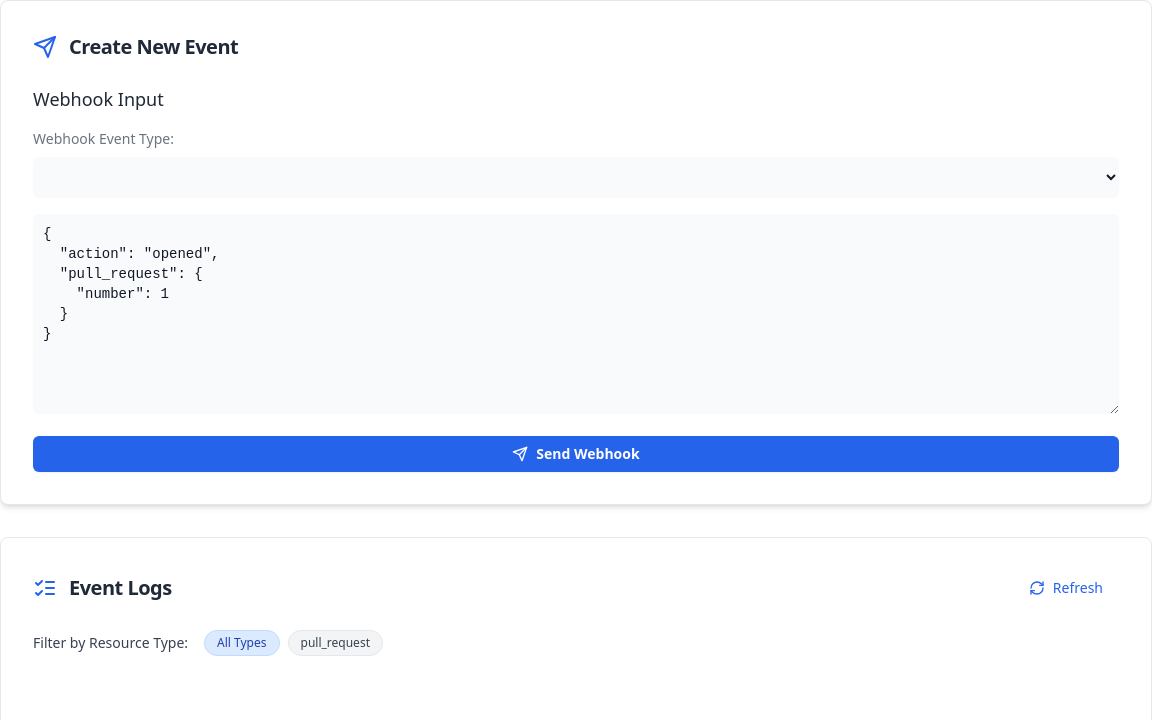
Scenario: Events Resource Type Filtering › clears filter when "All Types" is clicked
The width and height of the screenshot is (1152, 720).
Note: Click on a resource type filter first
Click the button "pull_request": [335, 643] box [288,630,383,656]
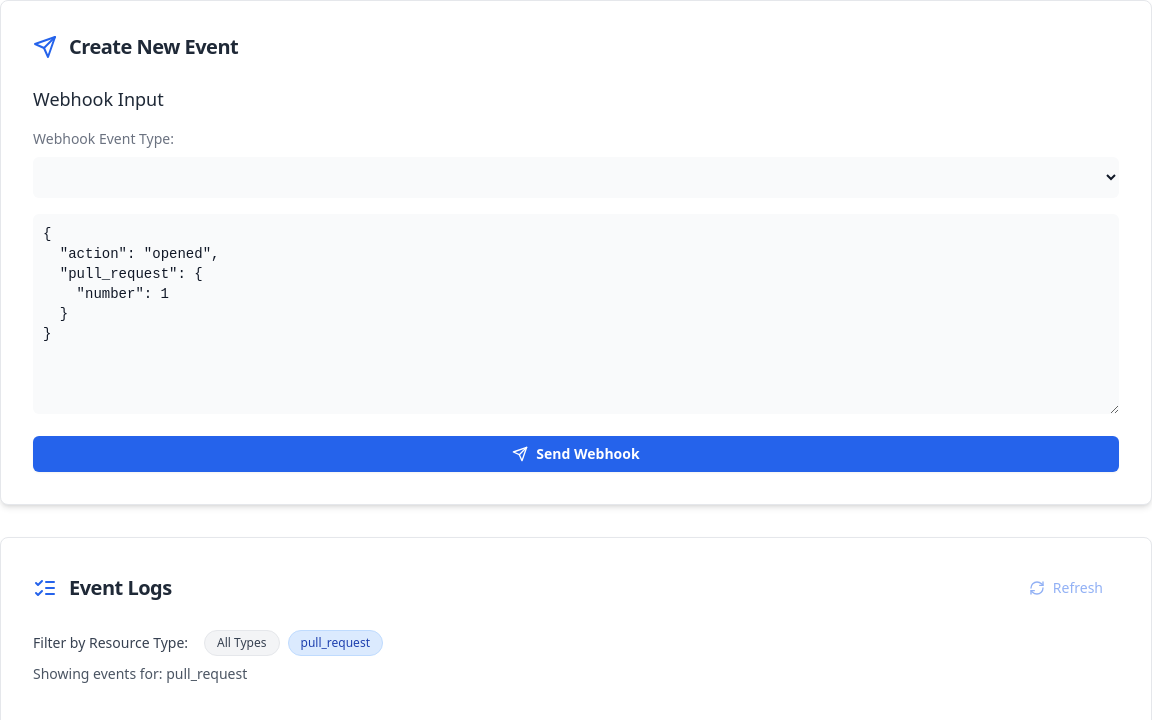
Check: the text "Showing events for: pull_request" is shown, box [33,664,247,683]
Note: Click on "All Types" to clear filter
Click the button "All Types": [242, 643] box [204,630,280,656]
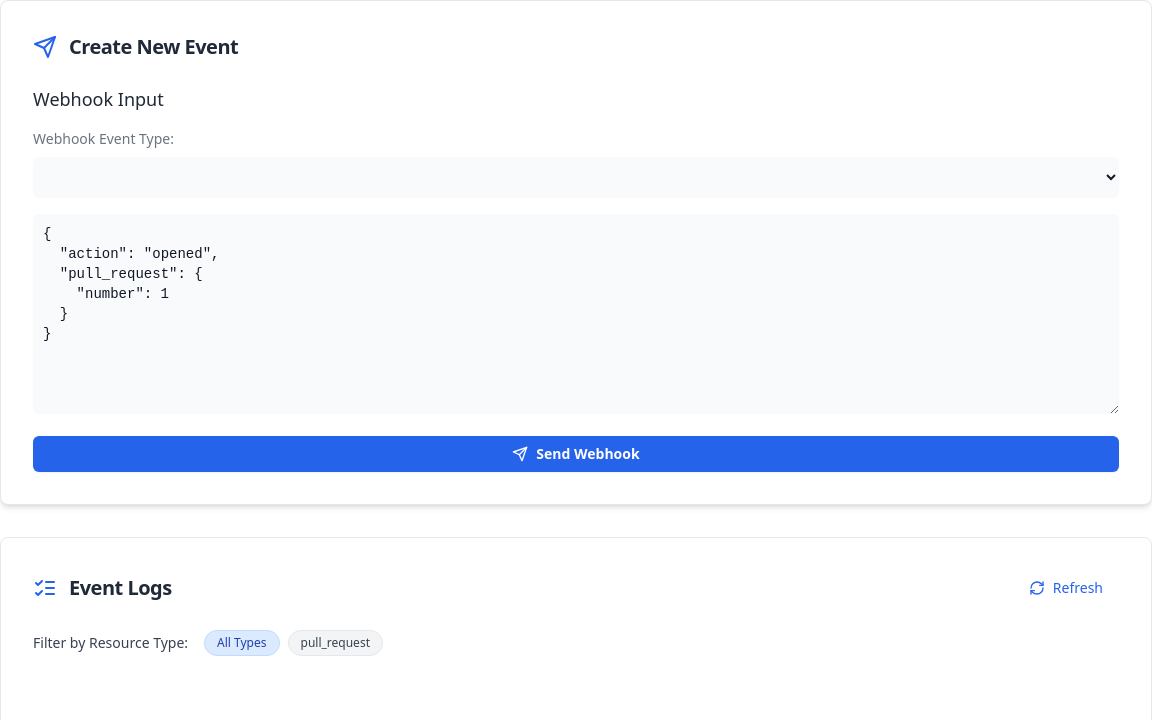
Check: the text "Showing events for:" is gone
